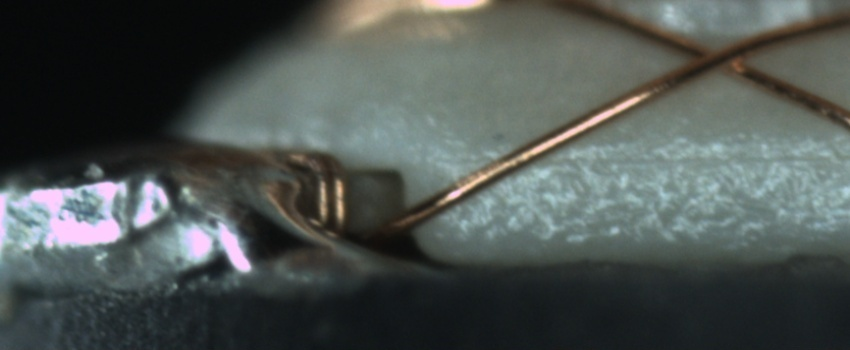CL: (671, 29, 763, 82)
DL: (443, 127, 849, 190)
TE: (262, 144, 351, 237)
